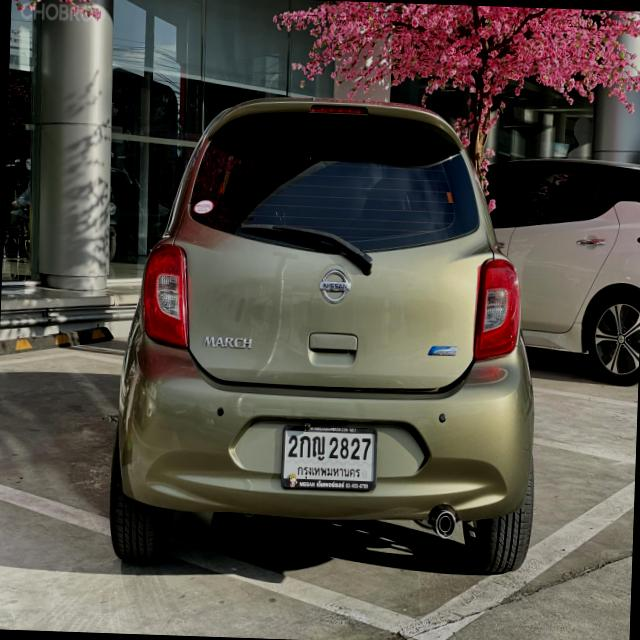license_plate: (280, 419, 380, 492)
